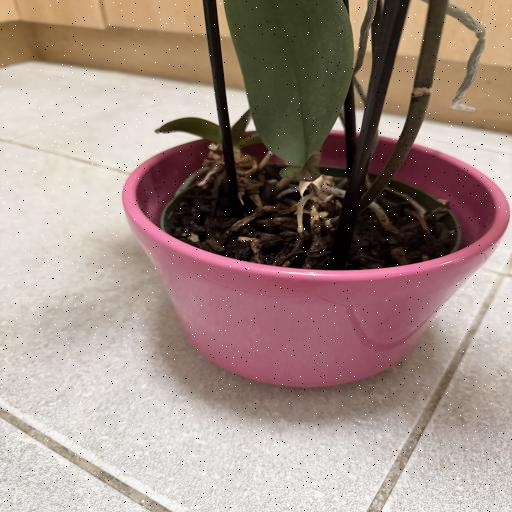Plant Pot: (120, 127, 510, 388)
